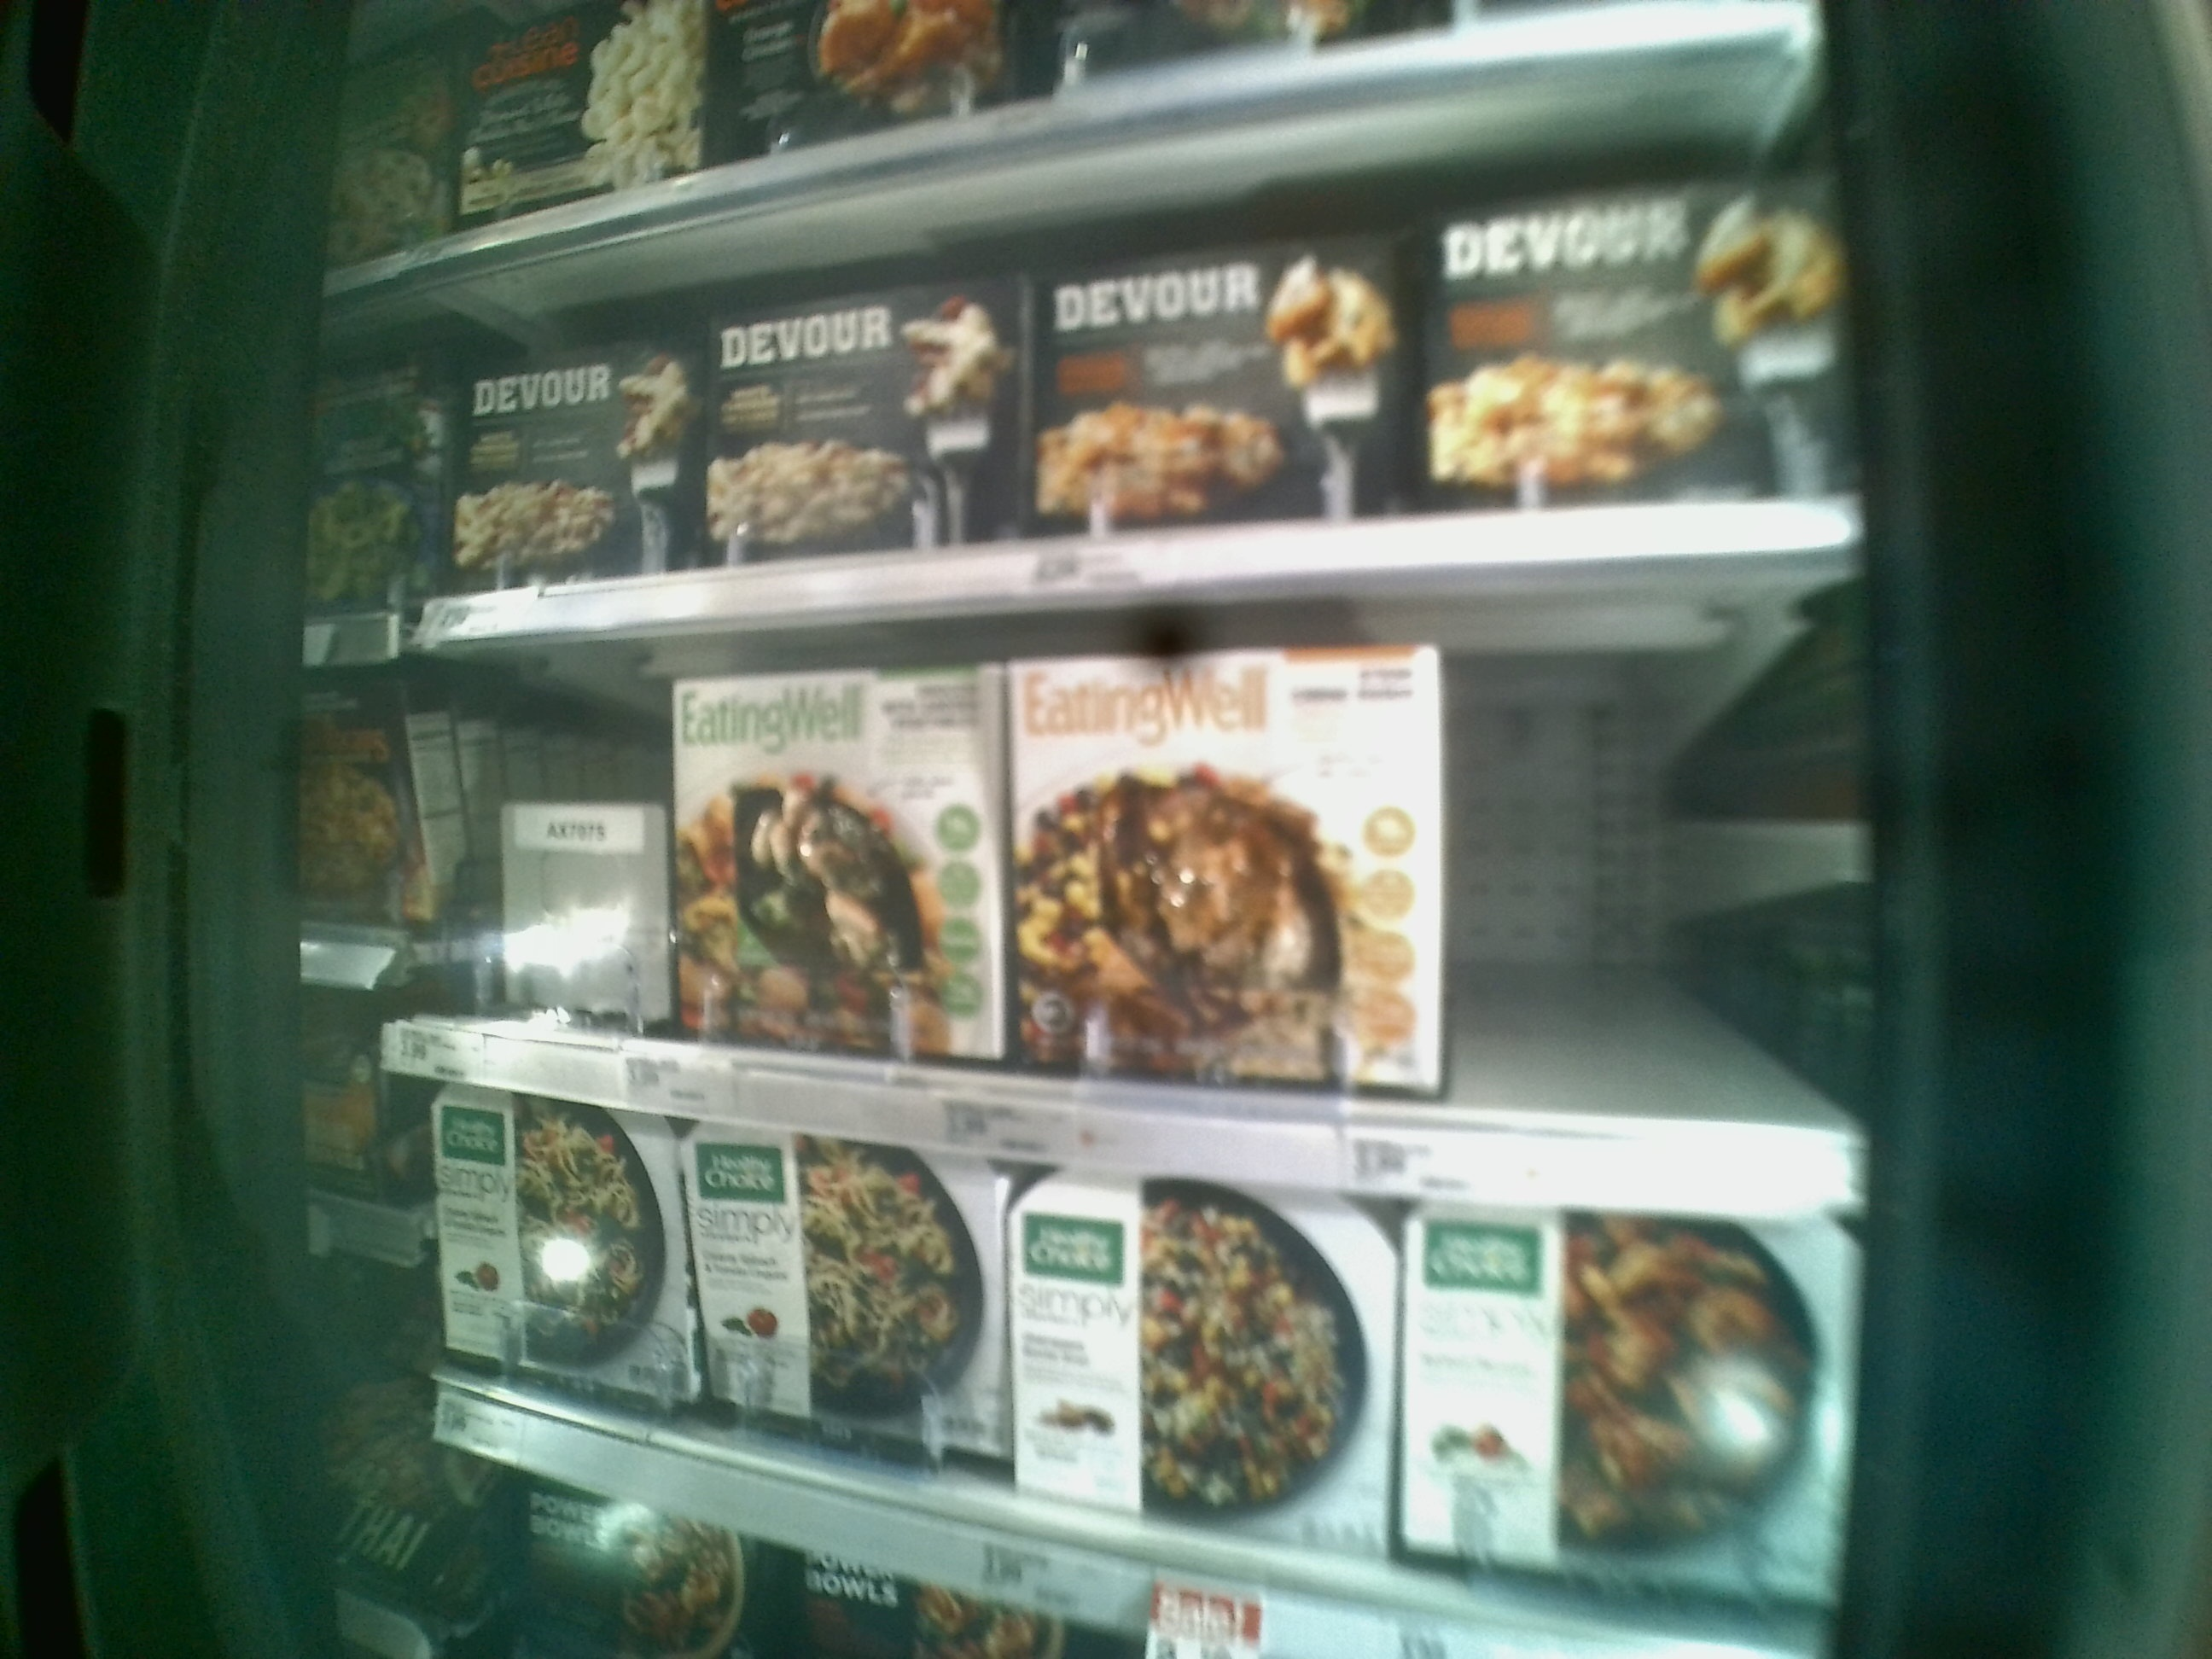pizza: (1008, 638, 1451, 1105), (1390, 1188, 1846, 1608), (1019, 1159, 1399, 1567), (664, 657, 1005, 1068), (1421, 195, 1862, 497), (685, 1121, 1019, 1486), (1033, 240, 1414, 535), (698, 267, 1008, 566), (432, 1110, 685, 1398), (462, 347, 685, 572), (462, 5, 698, 209)
